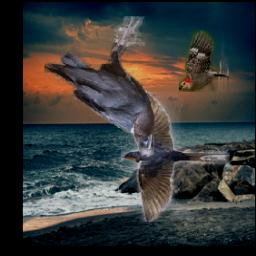Crow: (45, 17, 155, 156)
Swallow: (121, 92, 230, 222)
Woodpecker: (180, 29, 230, 92)
